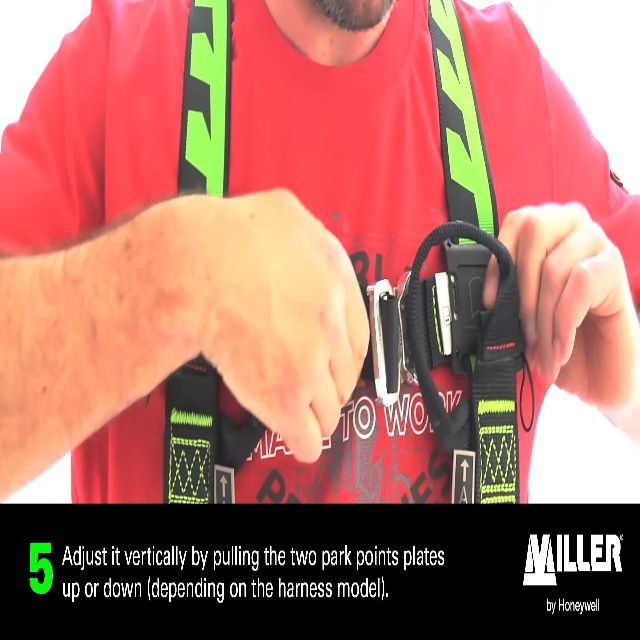Arnes_seguridad: (145, 0, 528, 503)
